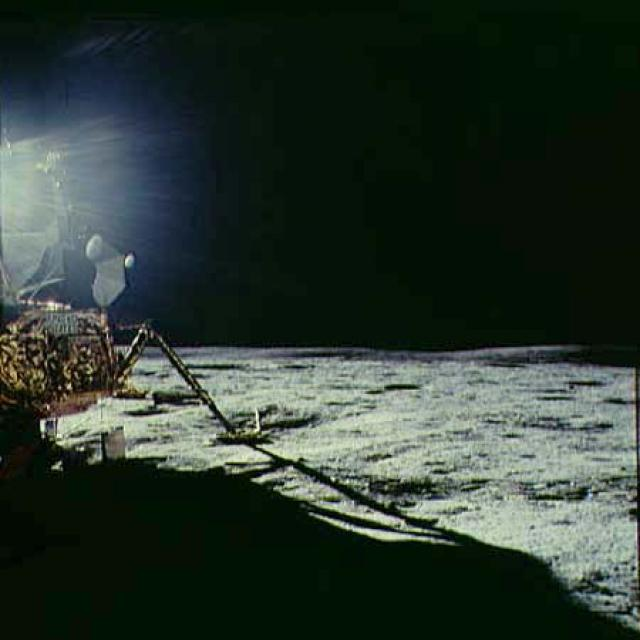crater: (347, 455, 478, 508), (509, 463, 627, 507), (232, 403, 336, 438), (513, 403, 615, 433), (563, 368, 627, 396)
